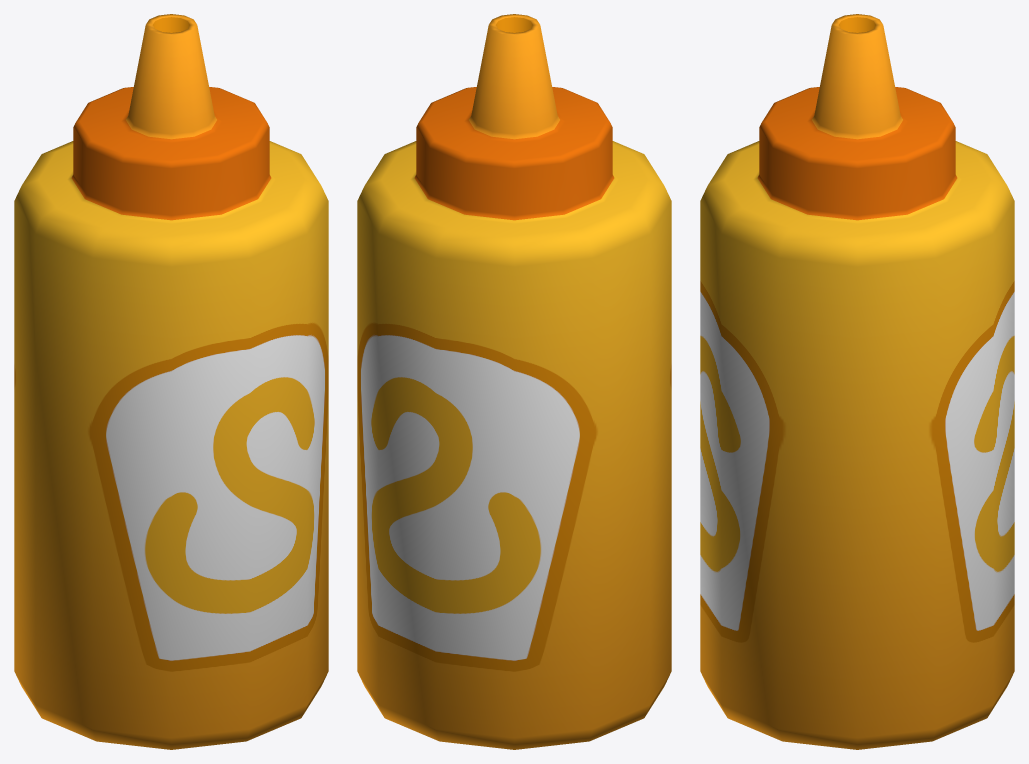
File: Mustard.fbx
3 views of the same model, side by side, from view 1: azimuth 30°, elevation 25°; view 2: azimuth 150°, elevation 25°; view 3: azimuth 270°, elevation 25° (orthographic).
Visible parts, largest first — view 1: Mustard; view 2: Mustard; view 3: Mustard.
Boxes of the visible parts, x1=… form: Mustard: x1=14, y1=14, x2=328, y2=749; Mustard: x1=357, y1=14, x2=671, y2=749; Mustard: x1=700, y1=14, x2=1014, y2=749.
Size of the model in its own units: 8.28 by 19.43 by 8.28.
